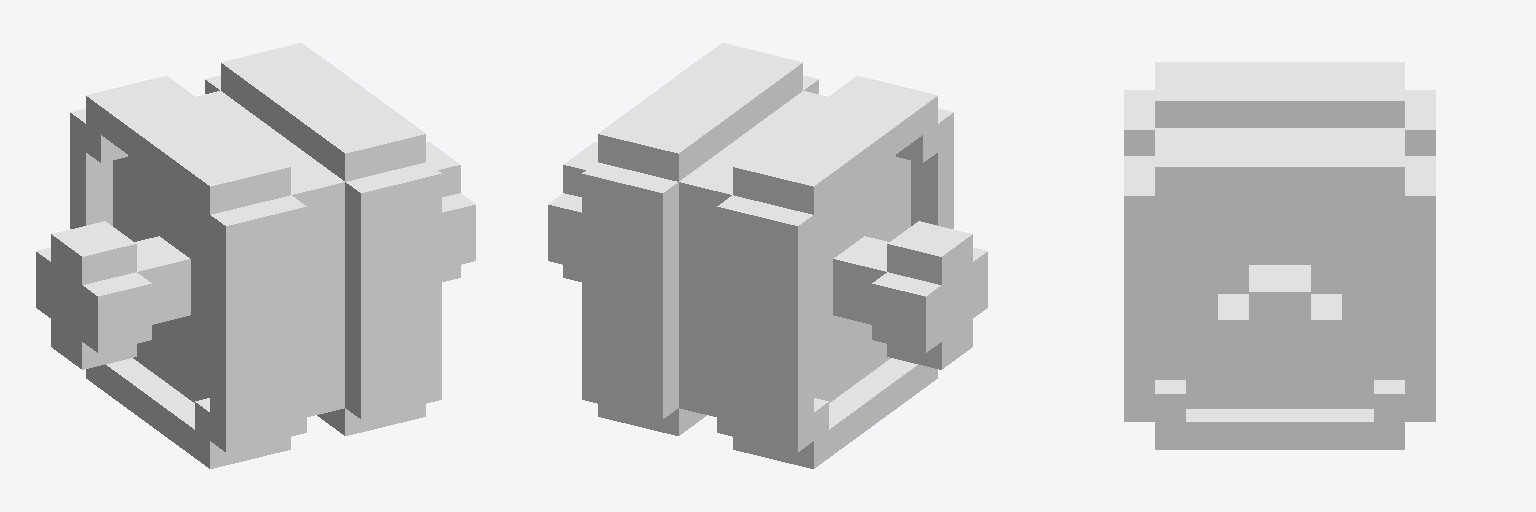
Rendered from meat-0.obj.
The picture shows the model from 3 angles: view 1: azimuth 30°, elevation 25°; view 2: azimuth 150°, elevation 25°; view 3: azimuth 270°, elevation 25°; orthographic projection.
Visible parts, largest first — view 1: object 1; view 2: object 1; view 3: object 1.
Part boxes in pixels (bbox=[...]): object 1: bbox=[36, 43, 475, 468]; object 1: bbox=[548, 43, 987, 468]; object 1: bbox=[1124, 62, 1435, 449].
Size of the model in its own units: 1.4 by 1 by 1.